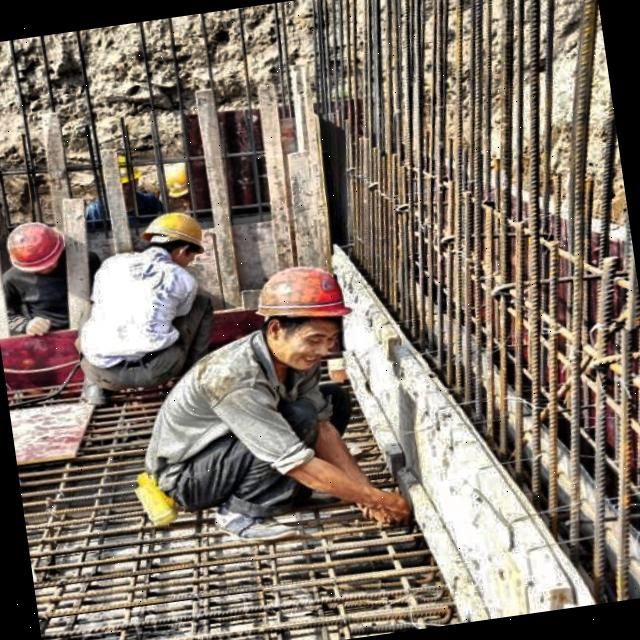helmet: (235, 254, 354, 374), (138, 205, 216, 280), (0, 215, 72, 284), (151, 157, 206, 213), (100, 148, 145, 203)
